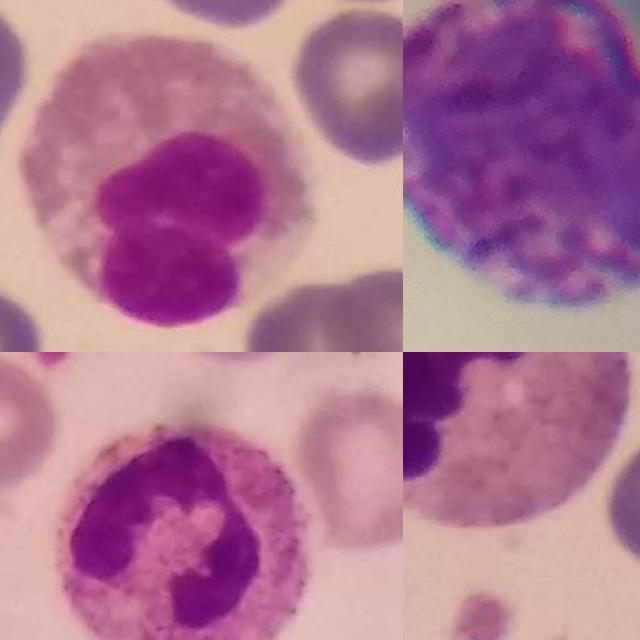Basophil: (403, 0, 640, 310)
Eosinophil: (23, 30, 322, 333)
Neutrophil: (55, 422, 311, 640), (403, 352, 629, 523)
